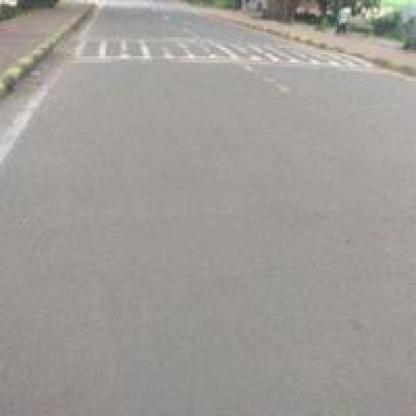Speed Bump: (64, 33, 376, 73)
